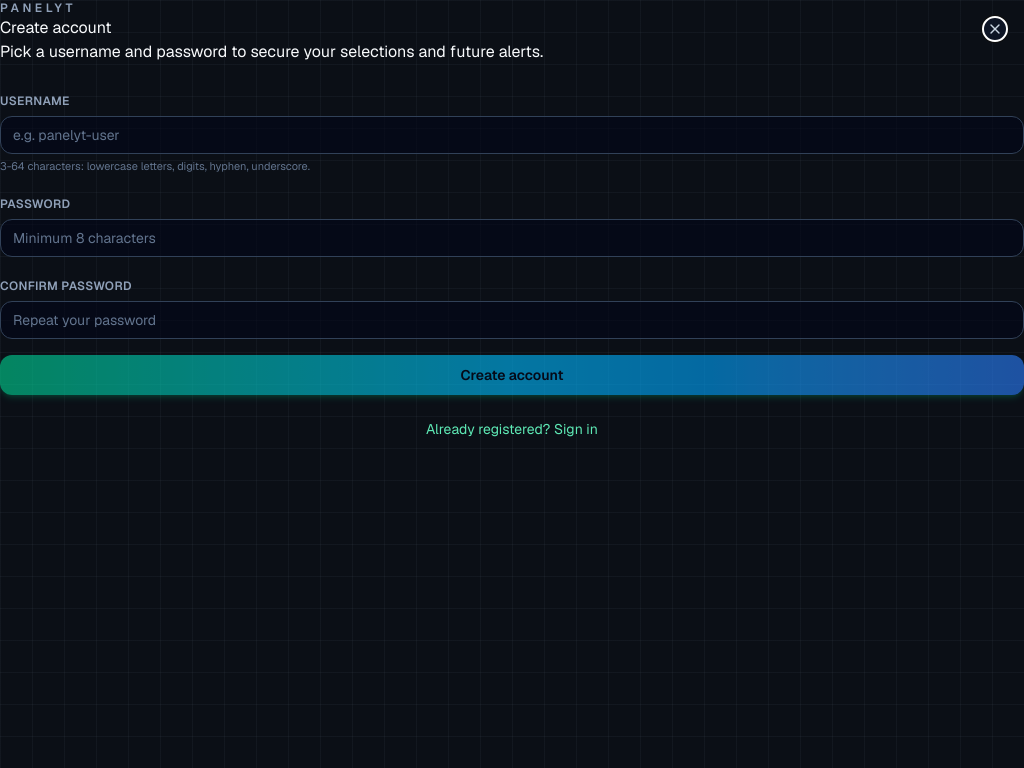
AuthModal › shows confirmation feedback in register mode
Check: the button "Create account" is disabled, box [0,354,1023,394]
Type "valid-user" into the field labelled "Username".
click(512, 135); type("valid-user")  # box [0,116,1023,154]
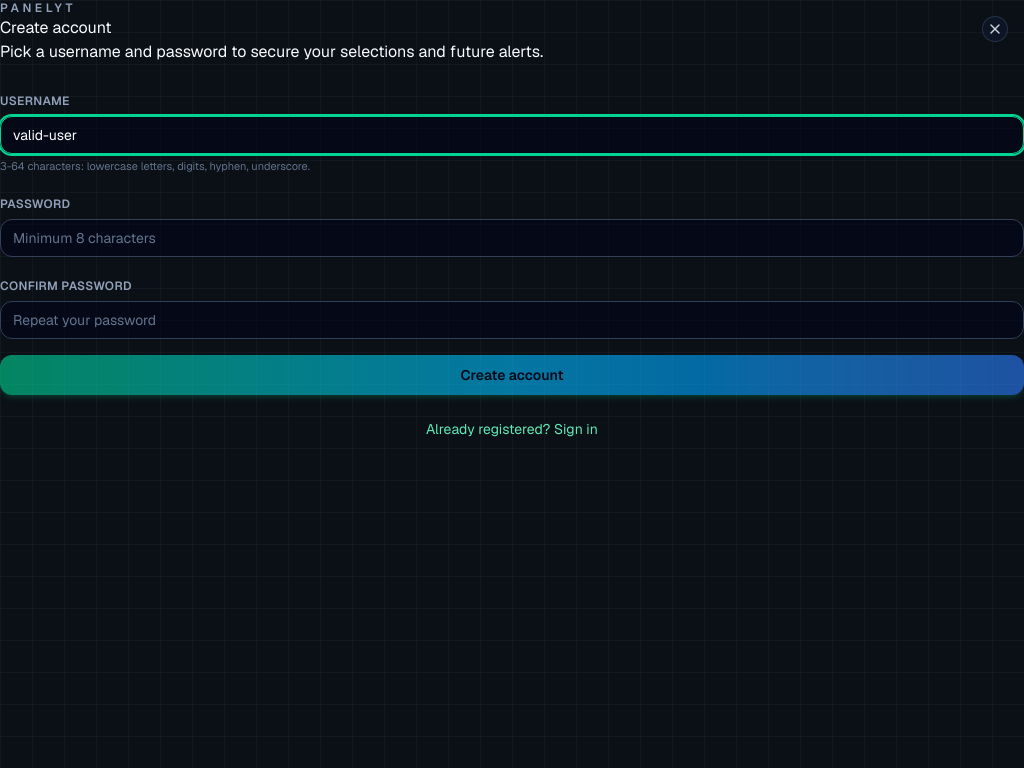
Type "longenough" into the password field labelled "Password".
click(512, 238); type("longenough")  # box [0,218,1023,256]
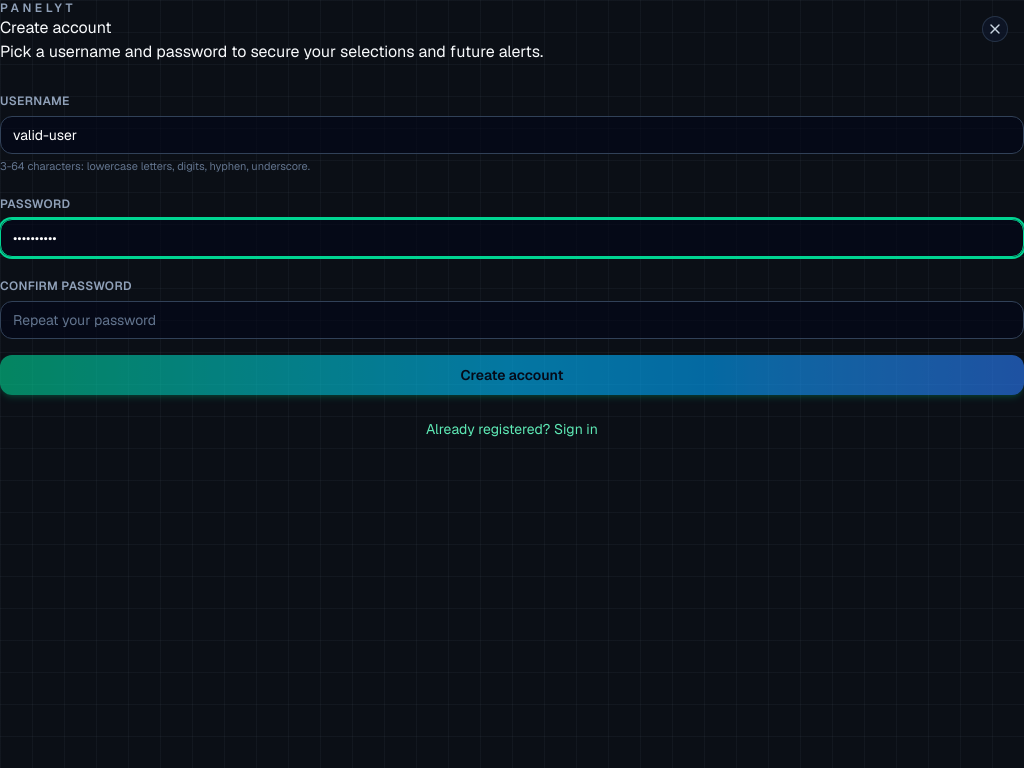
Type "nomatch" into the password field labelled "Confirm password".
click(512, 320); type("nomatch")  # box [0,300,1023,338]
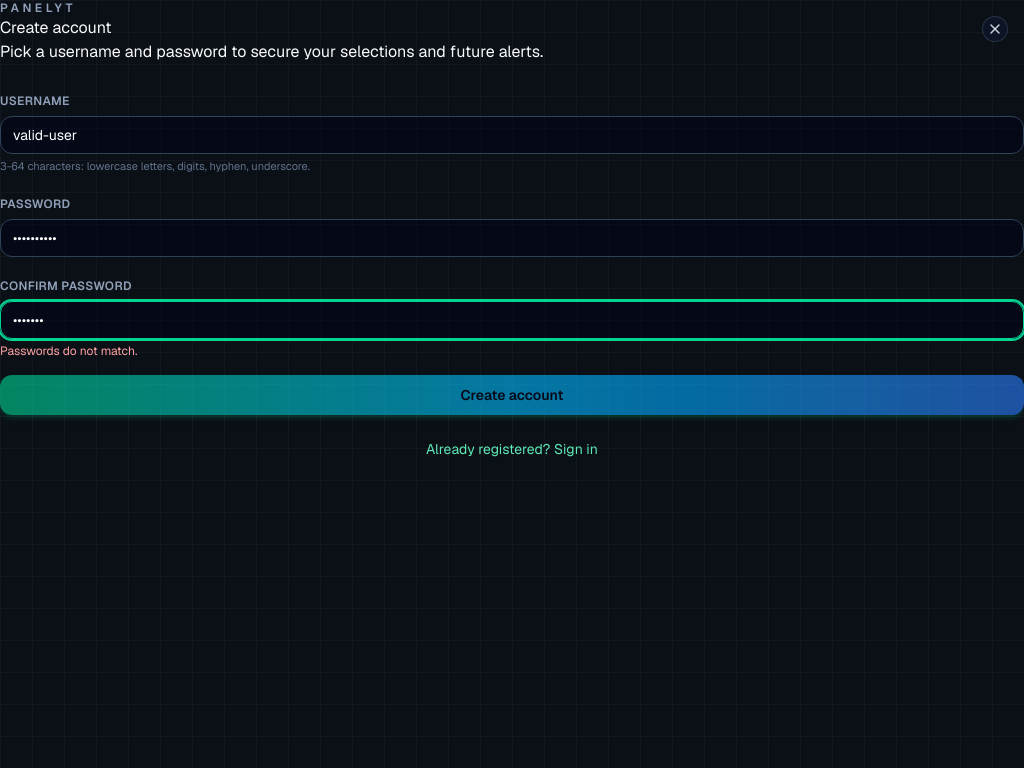
Check: the button "Create account" is disabled, box [0,374,1023,414]
Check: the text "Passwords do not match." is shown, box [0,342,137,358]
Type "longenough" into the password field labelled "Confirm password".
click(512, 320); type("longenough")  # box [0,300,1023,338]
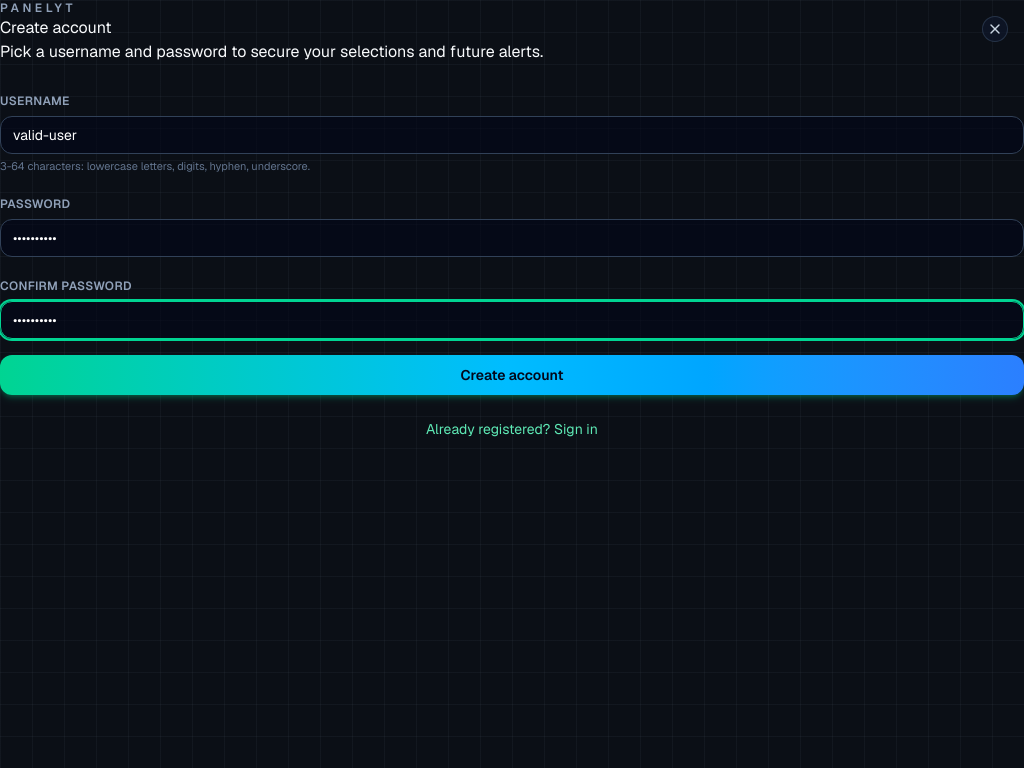
Check: the text "Passwords do not match." is not shown
Check: the button "Create account" is enabled, box [0,354,1023,394]
